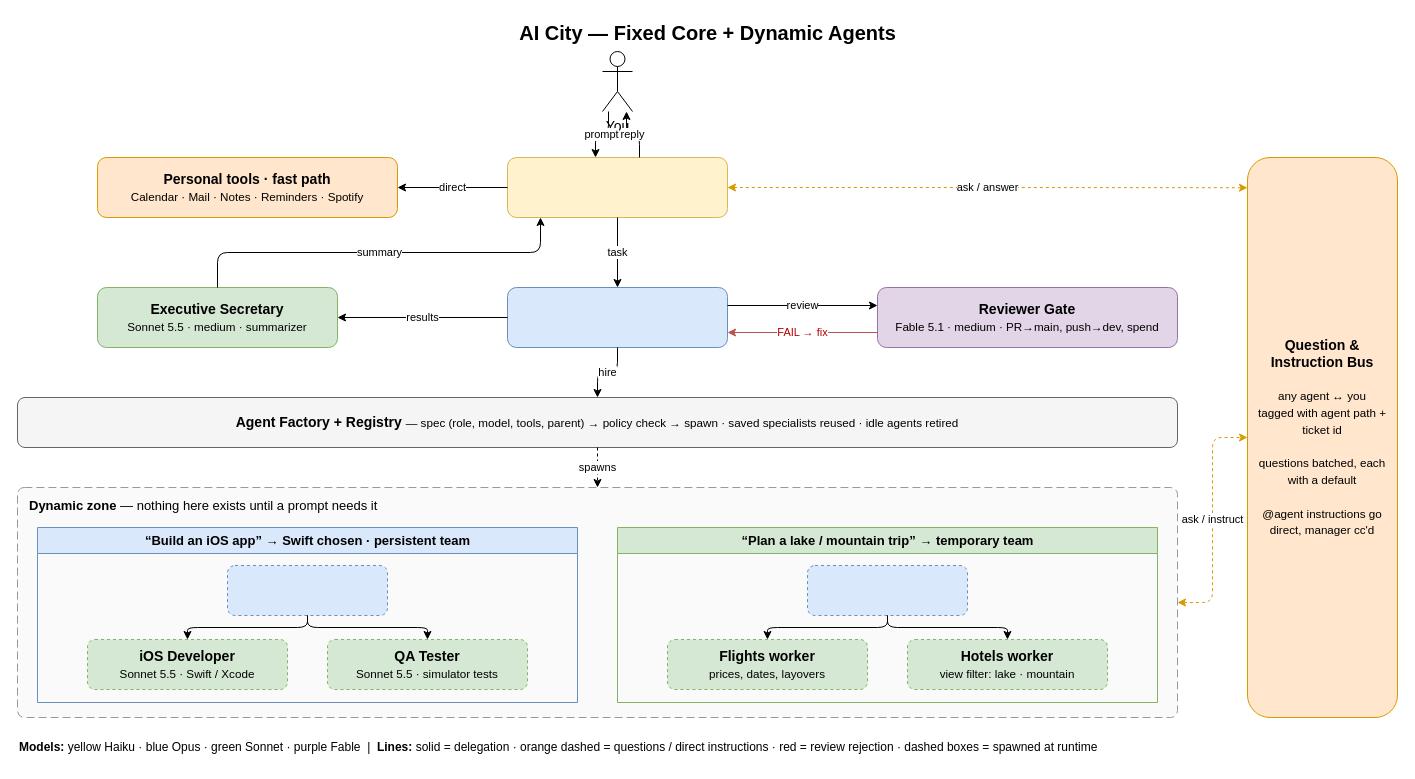
Image size: 1415x779. Some labels were removed from this diagram. The centre of each missing label's shape, as x and y in pixels:
App Manager Opus 5.5: the point at 307,590
Jarvis Haiku 5.5 · low · I/O, asks & relays: the point at 617,187
Orchestrator Opus 5.5 · medium · plans, hires: the point at 617,317
Travel Manager Sonnet 5.5: the point at 887,590
